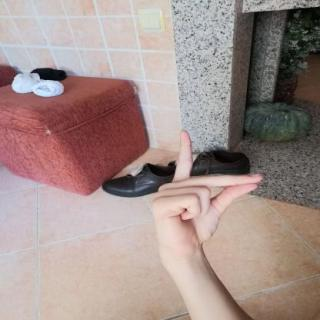TAA: (142, 124, 270, 256)
